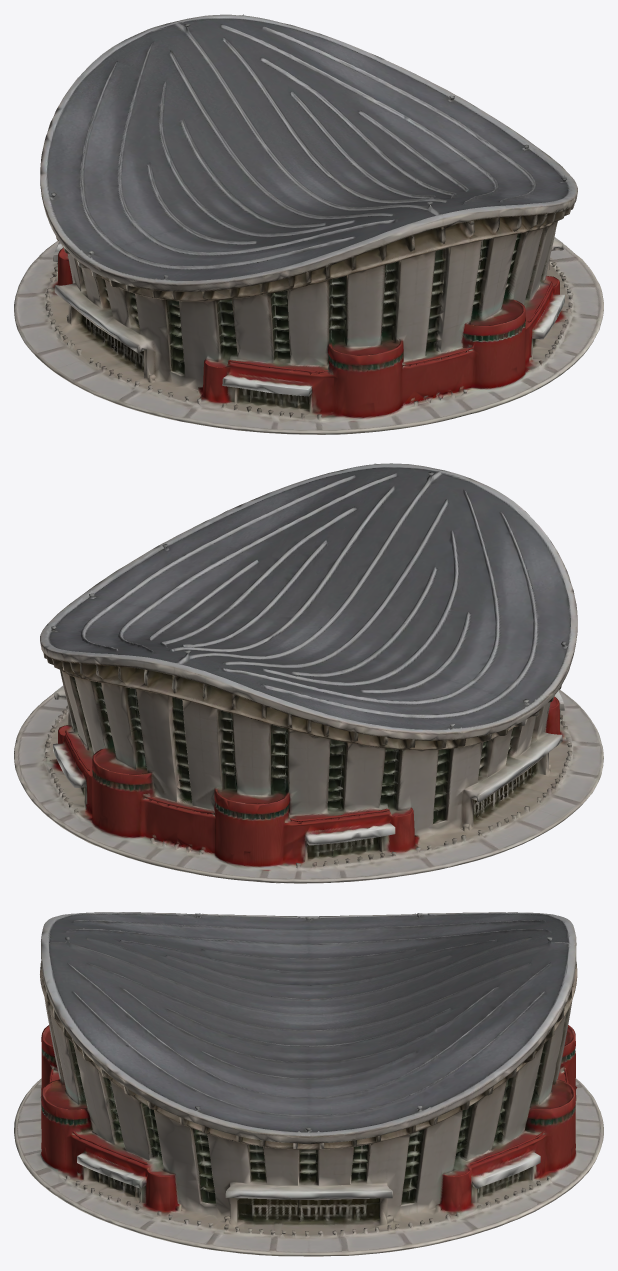
File: saddledome.glb
3 views of the same model, one above another, from view 1: azimuth 30°, elevation 25°; view 2: azimuth 150°, elevation 25°; view 3: azimuth 270°, elevation 25° (orthographic).
Visible parts, largest first — view 1: tripo_node_86b31946-eeb6-48e7-ab4d-0323a8a7dbd0; view 2: tripo_node_86b31946-eeb6-48e7-ab4d-0323a8a7dbd0; view 3: tripo_node_86b31946-eeb6-48e7-ab4d-0323a8a7dbd0.
Part boxes in pixels (<box>): tripo_node_86b31946-eeb6-48e7-ab4d-0323a8a7dbd0: <box>14,14,603,434</box>; tripo_node_86b31946-eeb6-48e7-ab4d-0323a8a7dbd0: <box>14,463,603,883</box>; tripo_node_86b31946-eeb6-48e7-ab4d-0323a8a7dbd0: <box>14,912,603,1256</box>.
Bounding box in the file's own units: 0.9943 × 0.3657 × 1.
1 material, 1 textured.
